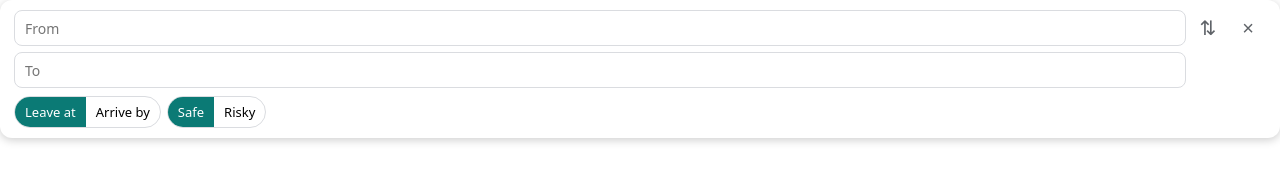
it: TripSearch › says Search unavailable when the search fails
The width and height of the screenshot is (1280, 193).
Type "kolodvor" into the field labelled "To" at (600, 70), box [14,52,1186,88]
Wait 400 ms
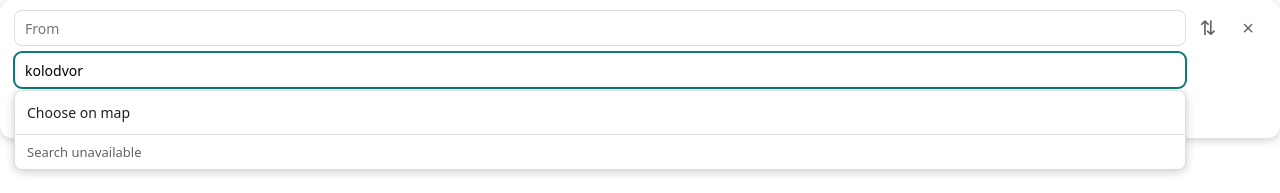
Expected: the text "Search unavailable" is shown, [15,134,1185,169]
